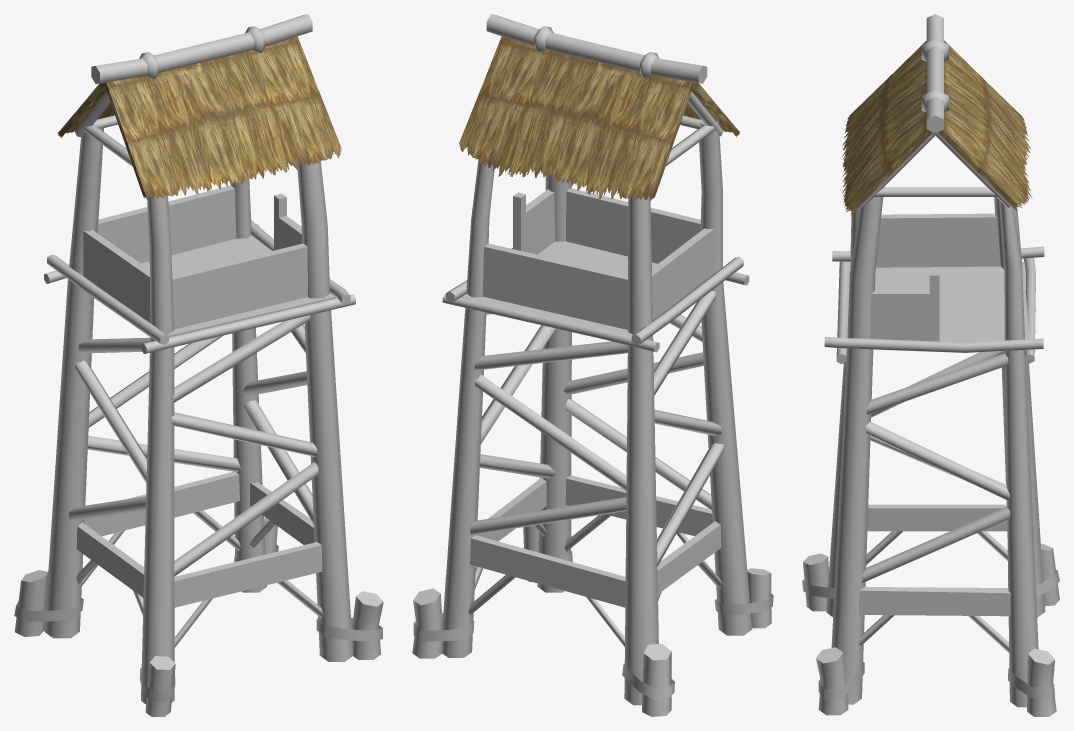
The model's file is SV_BUD_forest_shaota_0.FBX.
The picture shows the model from 3 angles, left to right: view 1: azimuth 30°, elevation 25°; view 2: azimuth 150°, elevation 25°; view 3: azimuth 270°, elevation 25°; orthographic projection. The views are drawn at different scales.
Parts seen in each view (by area): view 1: SV_BUD_forest_shaota_0, SV_BUD_forest_shaota_0_maocao; view 2: SV_BUD_forest_shaota_0, SV_BUD_forest_shaota_0_maocao; view 3: SV_BUD_forest_shaota_0, SV_BUD_forest_shaota_0_maocao.
Part boxes in pixels (x1,y1,x2,y2): SV_BUD_forest_shaota_0: (14,14,383,716); SV_BUD_forest_shaota_0_maocao: (57,36,341,200); SV_BUD_forest_shaota_0: (412,14,773,716); SV_BUD_forest_shaota_0_maocao: (459,36,739,200); SV_BUD_forest_shaota_0: (802,14,1059,716); SV_BUD_forest_shaota_0_maocao: (842,40,1032,214).
Bounding box in the file's own units: 4.13 × 9.27 × 3.66.
